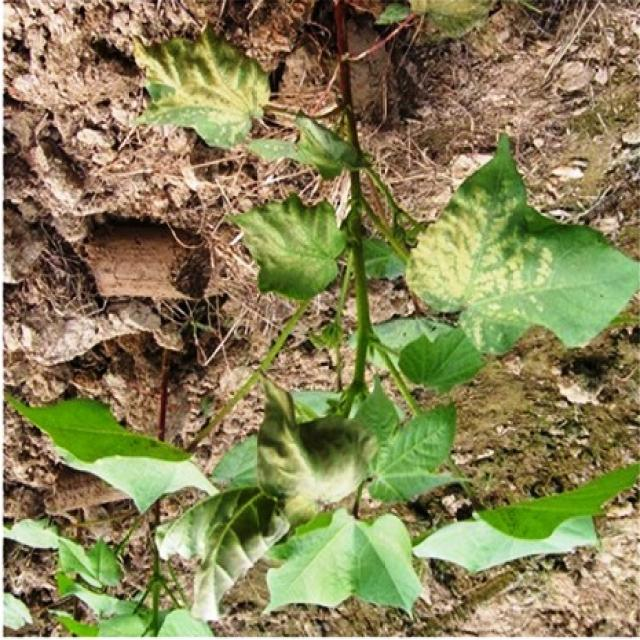Fusarium Wilt: (22, 17, 630, 640)
